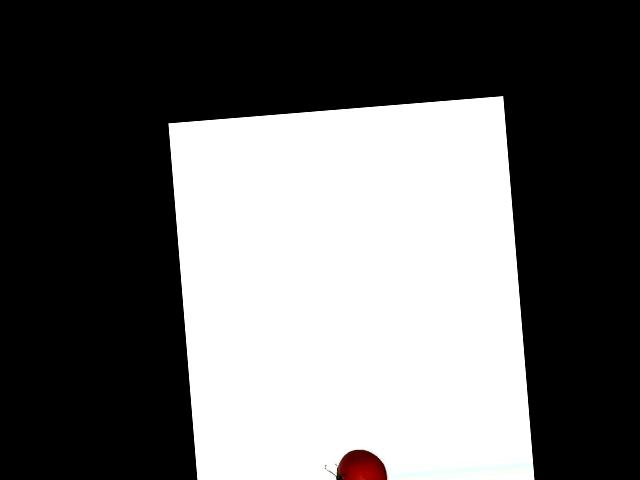tomato: (333, 448, 389, 480)
